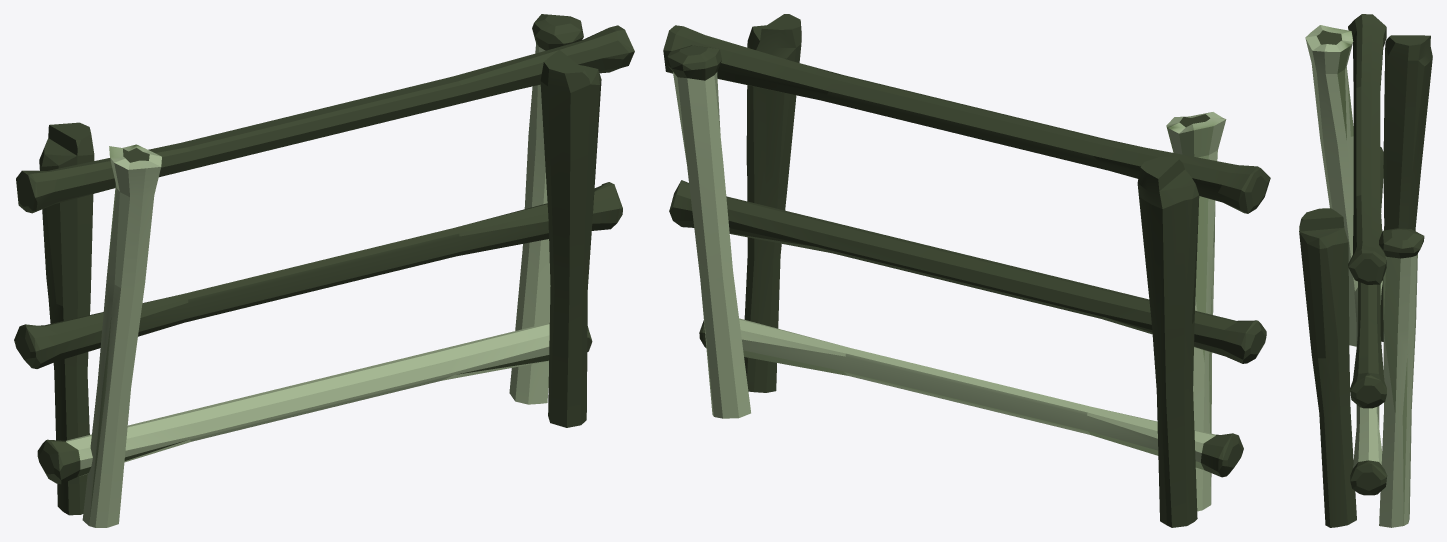
Rendered from EA_Fence_02c.glb.
3 views of the same model, side by side, from view 1: azimuth 30°, elevation 25°; view 2: azimuth 150°, elevation 25°; view 3: azimuth 270°, elevation 25° (orthographic). The views are drawn at different scales.
Parts seen in each view (by area): view 1: EA_Fence_02c; view 2: EA_Fence_02c; view 3: EA_Fence_02c.
Boxes of the visible parts, x1,y1,x2,y2 form: EA_Fence_02c: (14,14,634,527); EA_Fence_02c: (663,14,1270,527); EA_Fence_02c: (1299,14,1432,527).
Bounding box in the file's own units: 1.49 × 0.8994 × 0.3483.
Materials: 1 (1 with a texture image).
